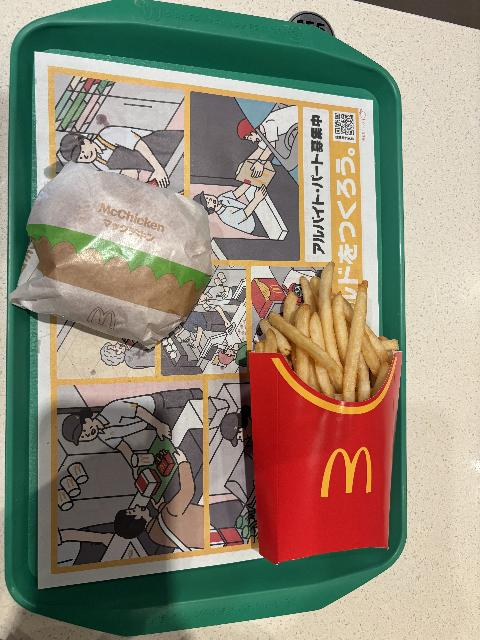burger: (8, 160, 214, 352)
fries: (248, 260, 403, 565)
